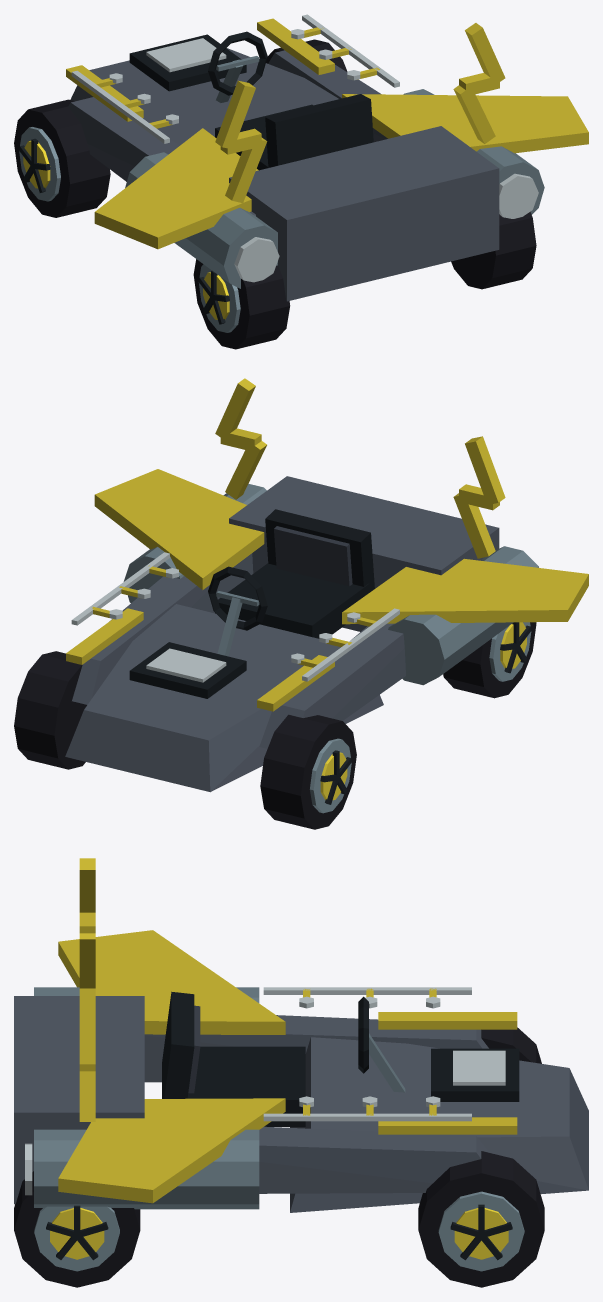
File: kart.glb
3 views of the same model, one above another, from view 1: azimuth 30°, elevation 25°; view 2: azimuth 150°, elevation 25°; view 3: azimuth 270°, elevation 25° (orthographic). The views are drawn at different scales.
Visible parts, largest first — view 1: identity-lab-pod-lab-pod-segmented-shell, identity-lab-pod-motif-wings, identity-lab-pod-driver-cockpit, wheel-front-left, wheel-rear-left, identity-lab-pod-motif-electric, wheel-rear-right, identity-lab-pod-motif-circuit, wheel-front-right; view 2: identity-lab-pod-lab-pod-segmented-shell, identity-lab-pod-motif-wings, identity-lab-pod-driver-cockpit, wheel-front-left, wheel-front-right, identity-lab-pod-motif-electric, wheel-rear-left, identity-lab-pod-motif-circuit; view 3: identity-lab-pod-lab-pod-segmented-shell, identity-lab-pod-motif-wings, wheel-front-right, identity-lab-pod-driver-cockpit, wheel-rear-right, identity-lab-pod-motif-circuit, identity-lab-pod-motif-electric, wheel-front-left.
Part boxes in pixels (x1,y1,x2,y2): identity-lab-pod-lab-pod-segmented-shell: (66, 18, 544, 301); identity-lab-pod-motif-wings: (94, 94, 588, 249); identity-lab-pod-driver-cockpit: (208, 31, 373, 170); wheel-front-left: (14, 99, 110, 217); wheel-rear-left: (193, 259, 290, 349); identity-lab-pod-motif-electric: (215, 23, 505, 203); wheel-rear-right: (451, 211, 536, 289); identity-lab-pod-motif-circuit: (71, 14, 399, 143); wheel-front-right: (266, 39, 347, 71); identity-lab-pod-lab-pod-segmented-shell: (65, 476, 538, 792); identity-lab-pod-motif-wings: (94, 469, 588, 624); identity-lab-pod-driver-cockpit: (208, 509, 374, 656); wheel-front-left: (260, 714, 356, 829); wheel-front-right: (14, 651, 86, 769); identity-lab-pod-motif-electric: (215, 378, 505, 558); wheel-rear-left: (443, 622, 536, 698); identity-lab-pod-motif-circuit: (71, 552, 399, 681); identity-lab-pod-lab-pod-segmented-shell: (14, 987, 588, 1212); identity-lab-pod-motif-wings: (58, 930, 285, 1203); wheel-front-right: (418, 1151, 544, 1287); identity-lab-pod-driver-cockpit: (162, 991, 405, 1126); wheel-rear-right: (14, 1171, 140, 1287); identity-lab-pod-motif-circuit: (263, 987, 471, 1121); identity-lab-pod-motif-electric: (79, 858, 95, 1121); wheel-front-left: (481, 1027, 541, 1063).
Size of the model in its own units: 2.92 by 1.49 by 2.73.
